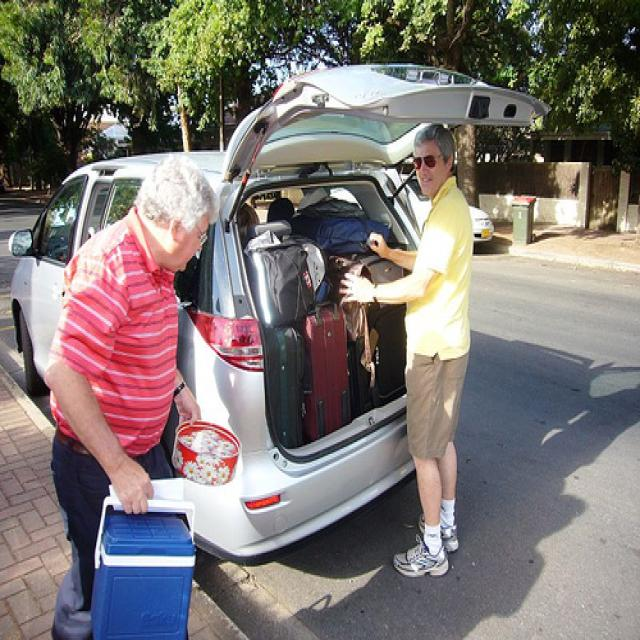Vehicle: (8, 56, 550, 560), (398, 173, 494, 242)
